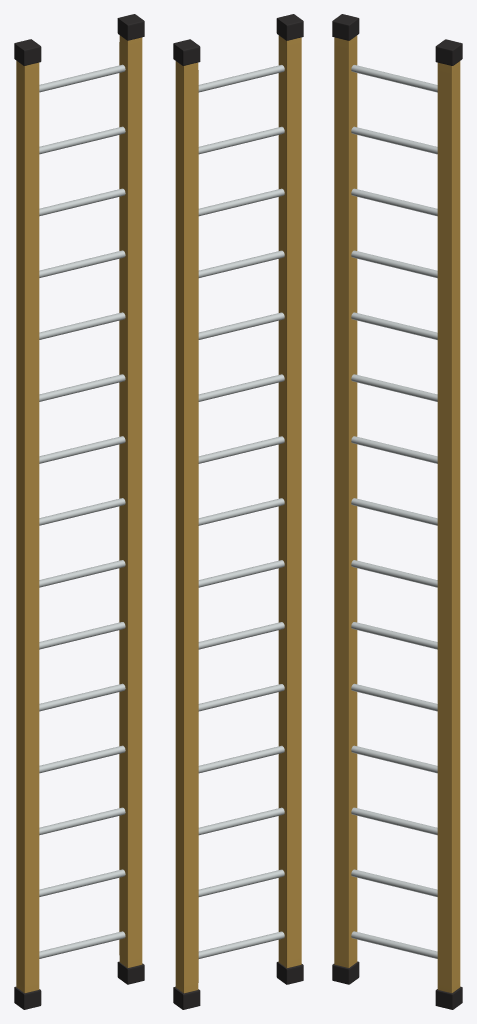
The model's file is ladderSmooth.fbx.
3 views of the same model, side by side, from view 1: azimuth 30°, elevation 25°; view 2: azimuth 210°, elevation 25°; view 3: azimuth 330°, elevation 25° (orthographic).
Parts seen in each view (by area): view 1: sideLeft, sideRight, pasted__rung5 (×2), pasted__rung3 (×2), pasted__rung2 (×2), pasted__rung4 (×2), pasted__rung1 (×2), rung5, rung3, rung4, rung2, rung1 (+4 smaller); view 2: sideRight, sideLeft, pasted__rung4 (×2), pasted__rung1 (×2), pasted__rung3 (×2), pasted__rung2 (×2), pasted__rung5 (×2), rung4, rung3, rung2, rung1, rung5 (+4 smaller); view 3: sideRight, sideLeft, pasted__rung2 (×2), pasted__rung4 (×2), pasted__rung5 (×2), pasted__rung3 (×2), pasted__rung1 (×2), rung3, rung5, rung2, rung4, rung1 (+4 smaller).
Part boxes in pixels (left/top/right/bottom): sideLeft: left=16, top=61, right=39, bottom=993; sideRight: left=119, top=35, right=142, bottom=967; pasted__rung5 (×2): left=39, top=64, right=125, bottom=401; pasted__rung3 (×2): left=39, top=188, right=125, bottom=525; pasted__rung2 (×2): left=39, top=250, right=125, bottom=587; pasted__rung4 (×2): left=39, top=126, right=125, bottom=463; pasted__rung1 (×2): left=39, top=312, right=125, bottom=649; rung5: left=39, top=683, right=125, bottom=711; rung3: left=39, top=807, right=125, bottom=835; rung4: left=39, top=745, right=125, bottom=773; rung2: left=39, top=869, right=125, bottom=896; rung1: left=39, top=931, right=125, bottom=958; sideRight: left=175, top=61, right=198, bottom=993; sideLeft: left=278, top=35, right=301, bottom=968; pasted__rung4 (×2): left=198, top=126, right=284, bottom=463; pasted__rung1 (×2): left=198, top=312, right=284, bottom=649; pasted__rung3 (×2): left=198, top=188, right=284, bottom=525; pasted__rung2 (×2): left=198, top=250, right=284, bottom=587; pasted__rung5 (×2): left=198, top=65, right=284, bottom=401; rung4: left=198, top=745, right=284, bottom=773; rung3: left=198, top=807, right=284, bottom=835; rung2: left=198, top=869, right=284, bottom=896; rung1: left=198, top=931, right=284, bottom=958; rung5: left=198, top=684, right=284, bottom=711; sideRight: left=437, top=61, right=460, bottom=993; sideLeft: left=334, top=35, right=357, bottom=967; pasted__rung2 (×2): left=351, top=250, right=437, bottom=587; pasted__rung4 (×2): left=351, top=126, right=437, bottom=463; pasted__rung5 (×2): left=351, top=65, right=437, bottom=401; pasted__rung3 (×2): left=351, top=188, right=437, bottom=525; pasted__rung1 (×2): left=351, top=312, right=437, bottom=649; rung3: left=351, top=807, right=437, bottom=835; rung5: left=351, top=683, right=437, bottom=711; rung2: left=351, top=869, right=437, bottom=896; rung4: left=351, top=745, right=437, bottom=773; rung1: left=351, top=931, right=437, bottom=958.
Size of the model in its own units: 2.05 by 15.51 by 0.3017.
